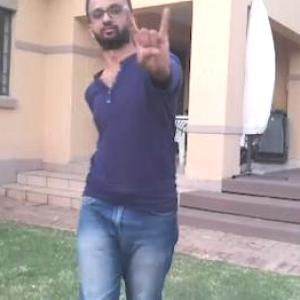takeoff-hand: (121, 0, 186, 82)
